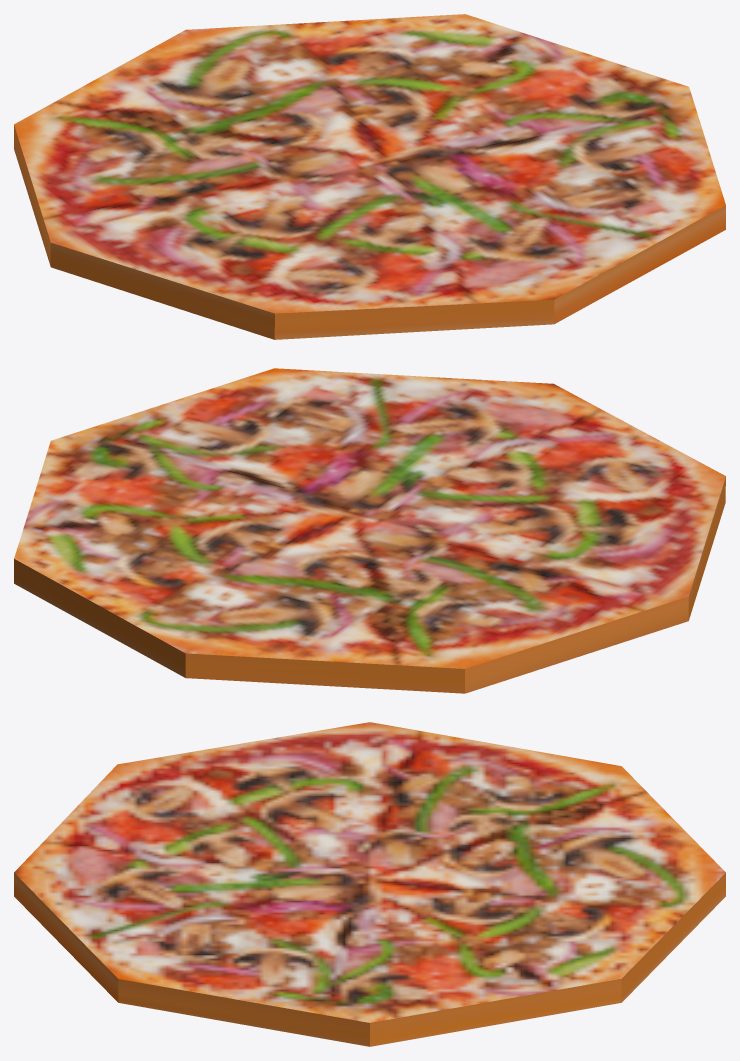
Rendered from pizza_whole.glb.
3 renders of one model, top to bottom at view 1: azimuth 30°, elevation 25°; view 2: azimuth 150°, elevation 25°; view 3: azimuth 270°, elevation 25°, orthographic. The views are drawn at different scales.
Visible parts, largest first — view 1: Cylinder; view 2: Cylinder; view 3: Cylinder.
Boxes of the visible parts, x1,y1,x2,y2 form: Cylinder: (14, 14, 725, 339); Cylinder: (14, 368, 725, 693); Cylinder: (14, 722, 725, 1046).
Bounding box in the file's own units: 6.38 × 0.2539 × 6.38.
1 material, 1 textured.
